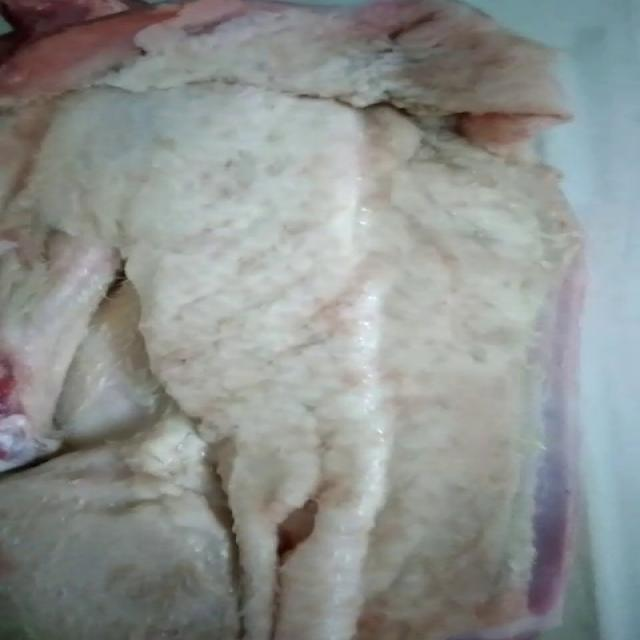chicken: (0, 0, 567, 640)
